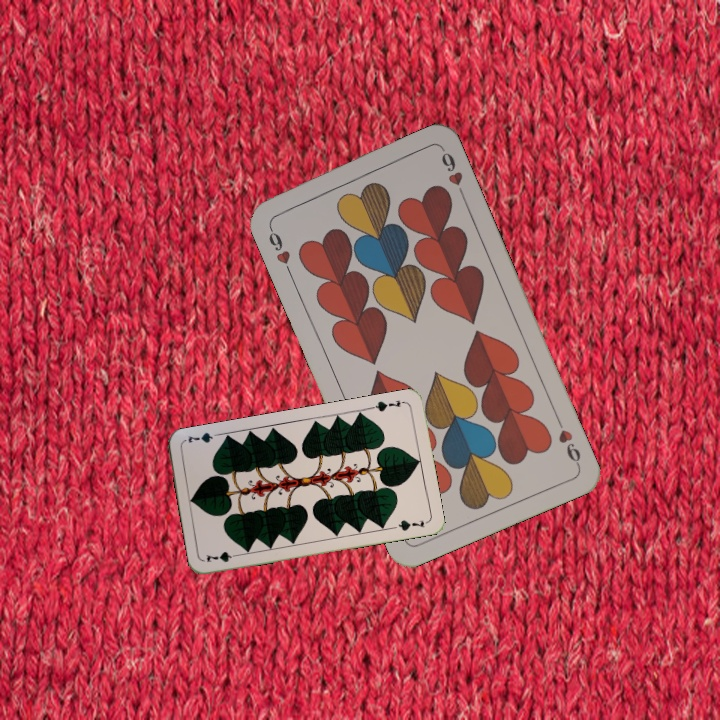G7: (367, 396, 408, 414), (202, 548, 243, 565)
H9: (552, 413, 584, 469), (264, 220, 294, 277)
